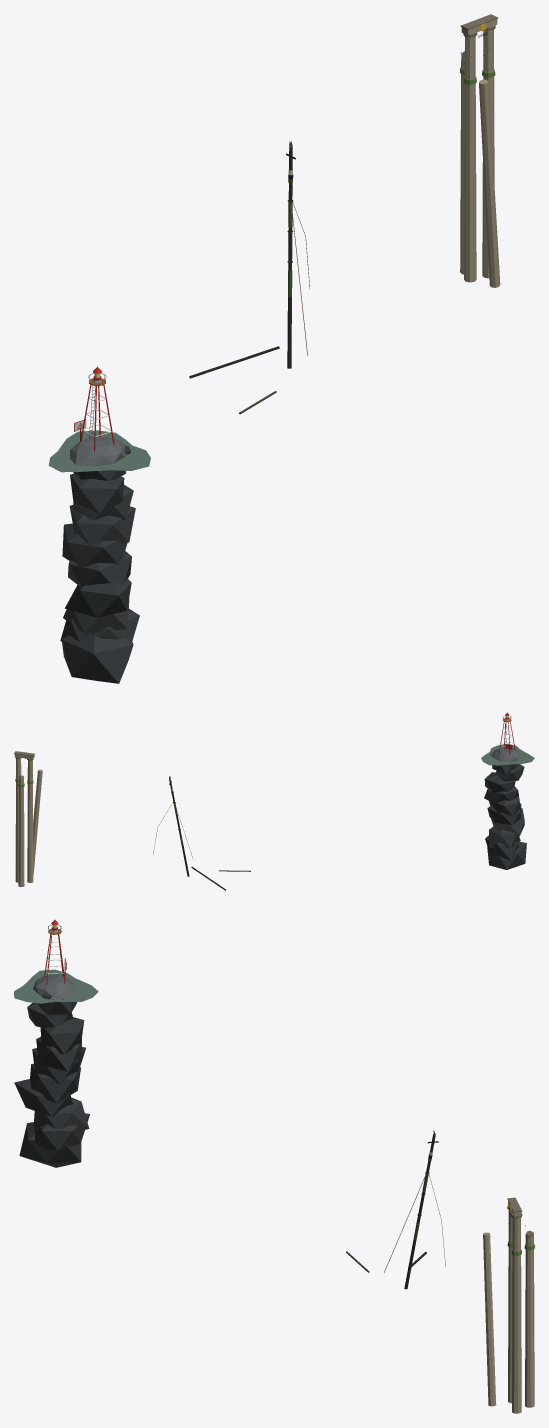
Rendered from chunk_0_2.glb.
The picture shows the model from 3 angles, top to bottom: view 1: azimuth 30°, elevation 25°; view 2: azimuth 150°, elevation 25°; view 3: azimuth 270°, elevation 25°; orthographic projection. The views are drawn at different scales.
Parts seen in each view (by area): view 1: chunk_0_2; view 2: chunk_0_2; view 3: chunk_0_2.
Boxes of the visible parts, <box> form: chunk_0_2: <box>48,14,500,683</box>; chunk_0_2: <box>14,712,534,890</box>; chunk_0_2: <box>14,919,534,1413</box>.
Bounding box in the file's own units: 96.75 × 39.37 × 74.77.
